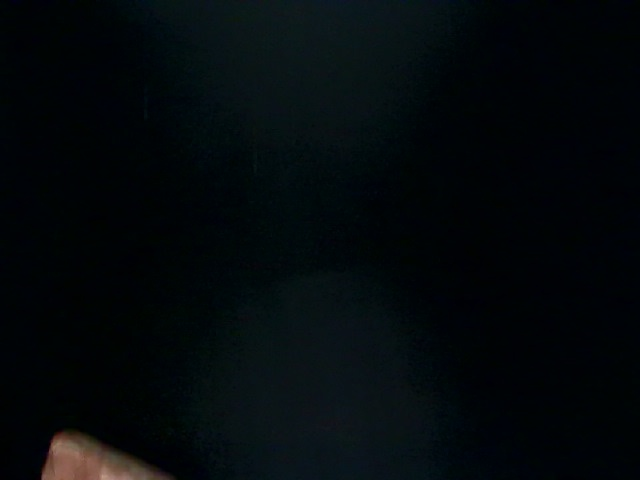KHSLJ: (1, 1, 291, 208)
